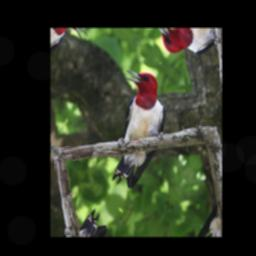Woodpecker: (75, 56, 187, 199)
